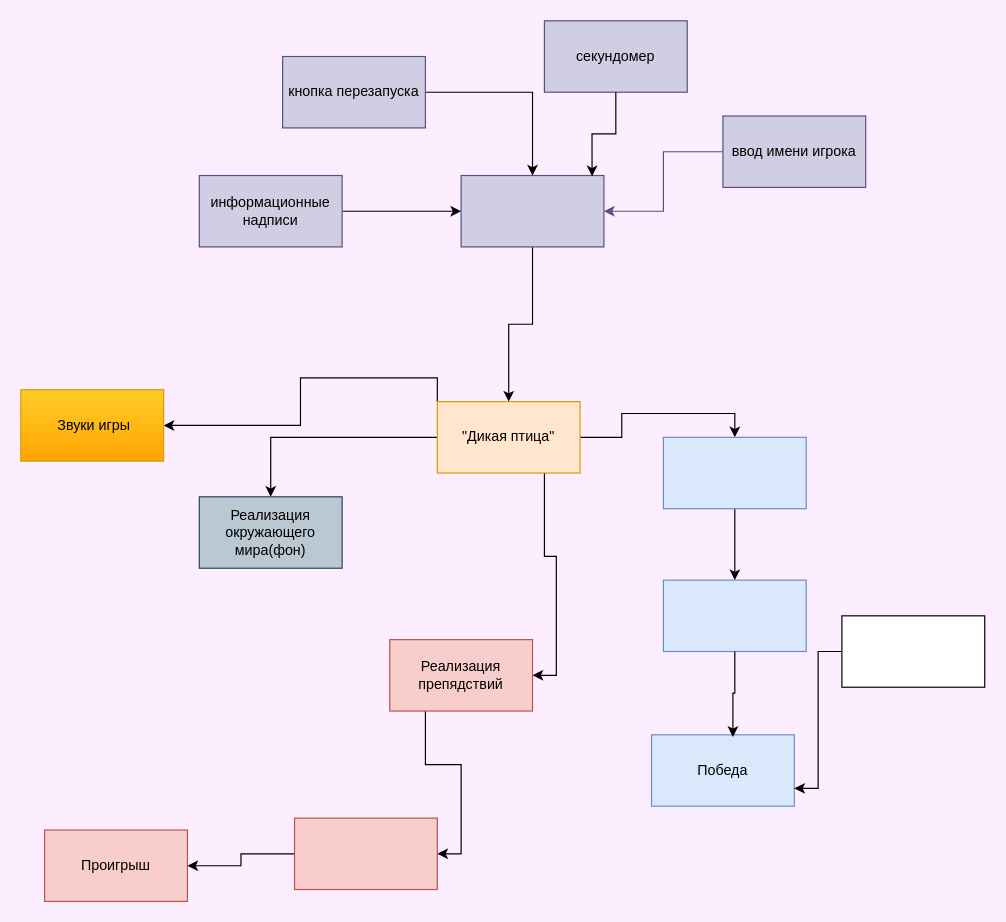
Image size: 1006x922. Some labels were removed from this diagram. The shapes that lost their labels are listed below. From the top down, each one's centre as x and y in pixels, then its label:
At (532,210): "интерфейс игры".
At (734,472): "Главный герой".
At (734,615): "Управление героем".
At (913,651): "150 очков".
At (365,853): "Столкновение с препядствием".
